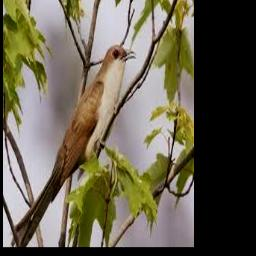Cuckoo: (10, 45, 137, 247)
